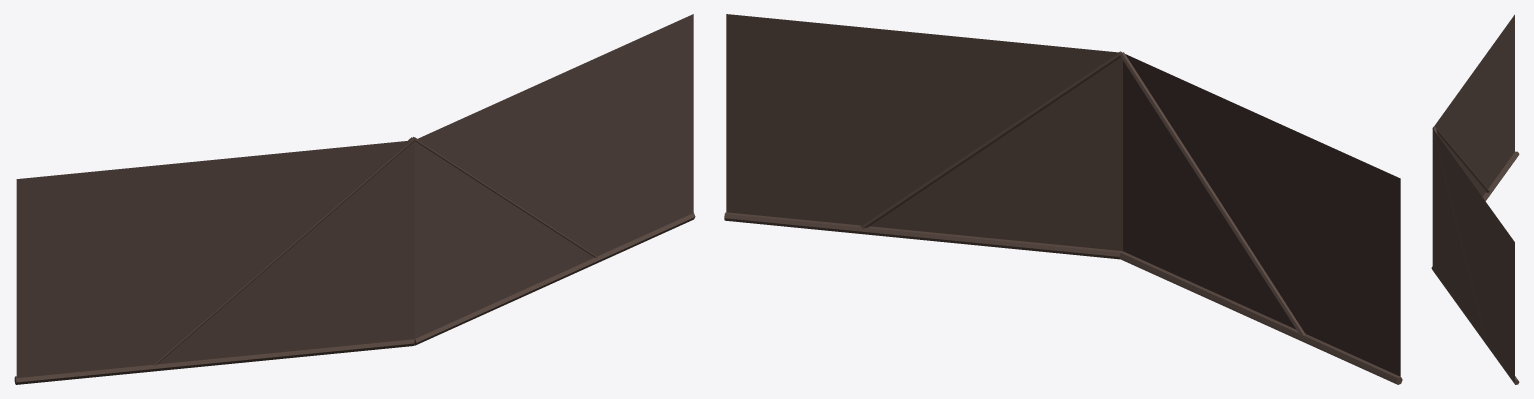
The model's file is HALL_ROOF_BAY_MODULE.glb.
3 views of the same model, side by side, from view 1: azimuth 30°, elevation 25°; view 2: azimuth 150°, elevation 25°; view 3: azimuth 270°, elevation 25° (orthographic). The views are drawn at different scales.
Visible parts, largest first — view 1: HALL_ROOF_BAY_MODULE; view 2: HALL_ROOF_BAY_MODULE; view 3: HALL_ROOF_BAY_MODULE.
Part boxes in pixels (x1=…): HALL_ROOF_BAY_MODULE: x1=14, y1=14, x2=695, y2=384; HALL_ROOF_BAY_MODULE: x1=724, y1=14, x2=1402, y2=384; HALL_ROOF_BAY_MODULE: x1=1431, y1=14, x2=1519, y2=384.
Size of the model in its own units: 21.07 by 6.15 by 3.42.
